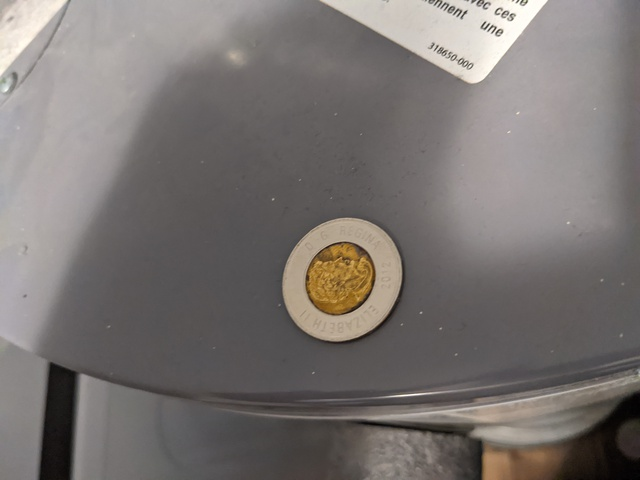twonie: (268, 216, 421, 345)
